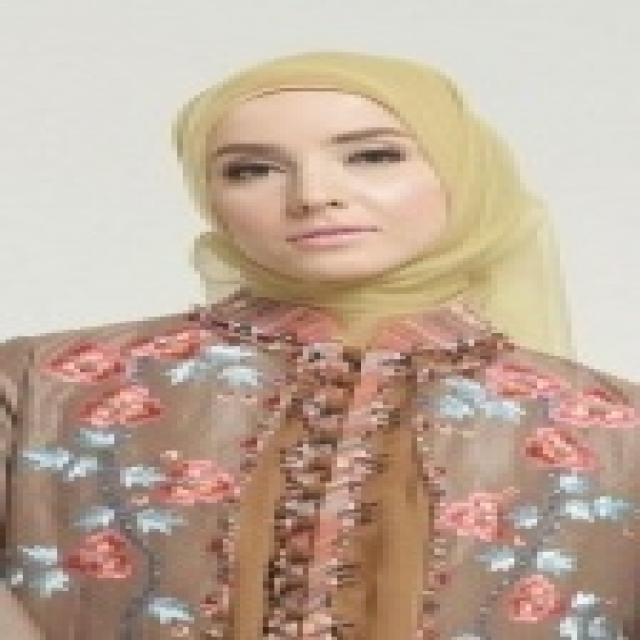head: (147, 49, 564, 293)
